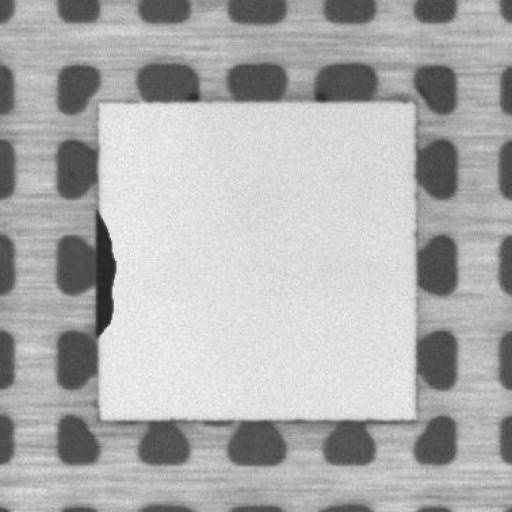DIE_BROKEN: (90, 214, 118, 340)
